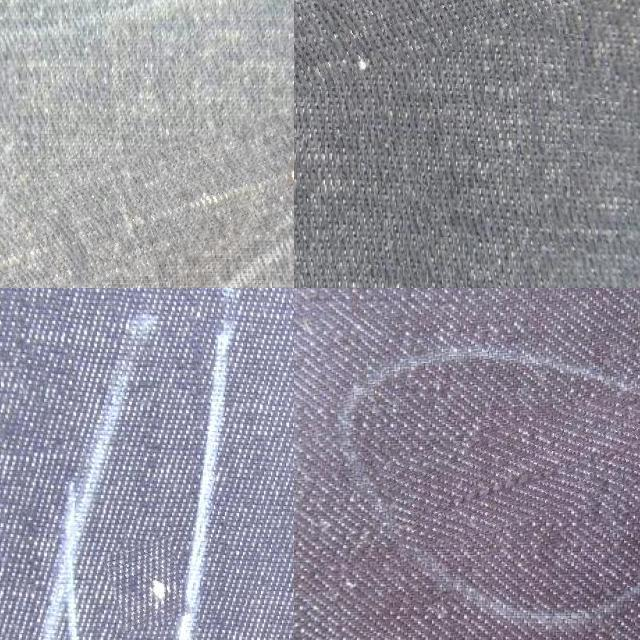Thread_other: (0, 100, 294, 288), (294, 0, 640, 119), (380, 402, 640, 536), (107, 539, 187, 629)
